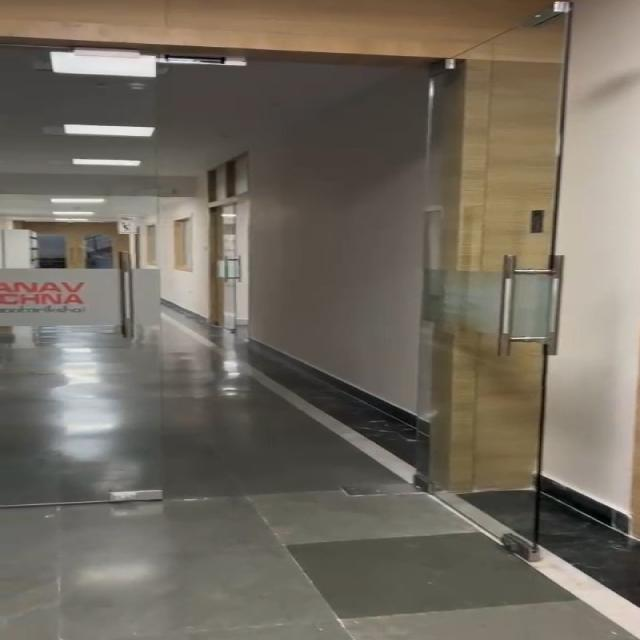door: (431, 19, 640, 552), (0, 11, 166, 517), (187, 157, 264, 337)
floor: (0, 521, 481, 640)
